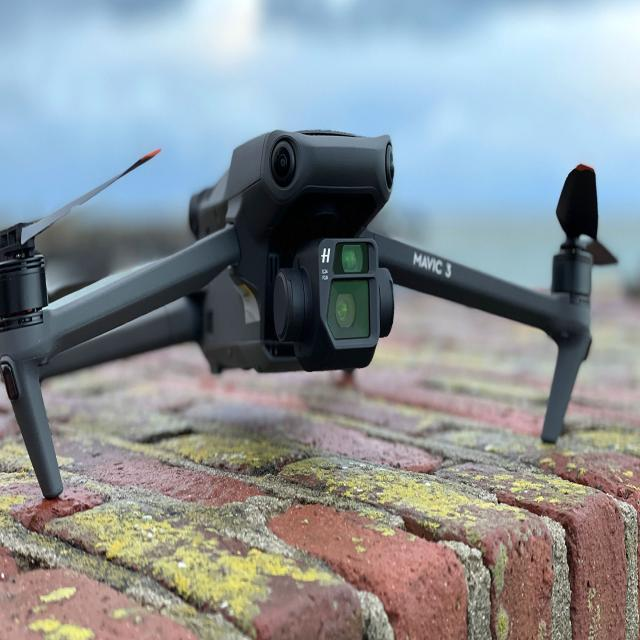drone: (7, 78, 634, 489)
